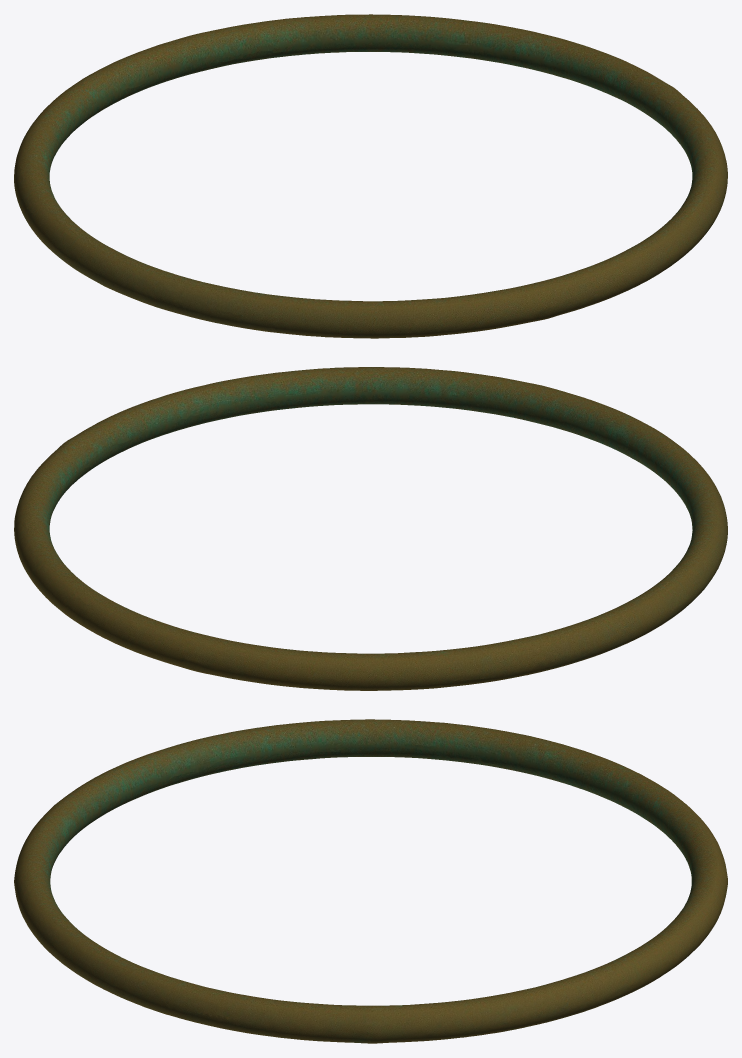
The model's file is ring_bronze.glb.
The picture shows the model from 3 angles, top to bottom: view 1: azimuth 30°, elevation 25°; view 2: azimuth 150°, elevation 25°; view 3: azimuth 270°, elevation 25°; orthographic projection.
Size of the model in its own units: 1.9 by 0.1016 by 1.9.
1 material, 1 textured.
